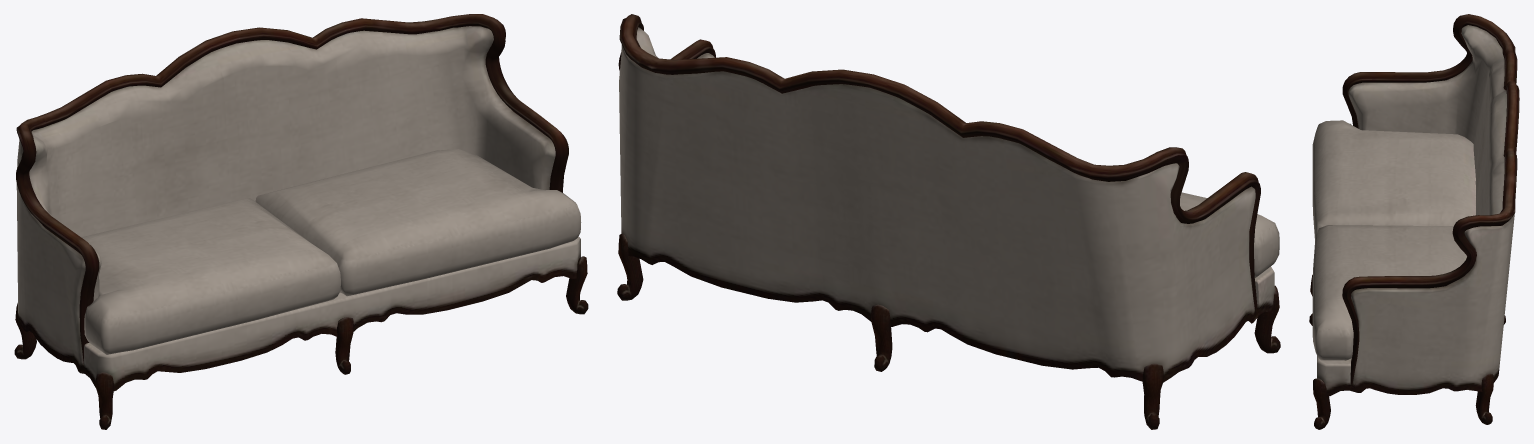
File: sofa_2_seat.glb
3 views of the same model, side by side, from view 1: azimuth 30°, elevation 25°; view 2: azimuth 150°, elevation 25°; view 3: azimuth 270°, elevation 25° (orthographic). The views are drawn at different scales.
Parts seen in each view (by area): view 1: Sofa_01; view 2: Sofa_01; view 3: Sofa_01.
Part boxes in pixels (bbox=[...]): Sofa_01: bbox=[14, 14, 588, 429]; Sofa_01: bbox=[617, 14, 1280, 429]; Sofa_01: bbox=[1309, 14, 1519, 429].
Bounding box in the file's own units: 1.57 × 0.7965 × 0.658.
1 material, 1 textured.
